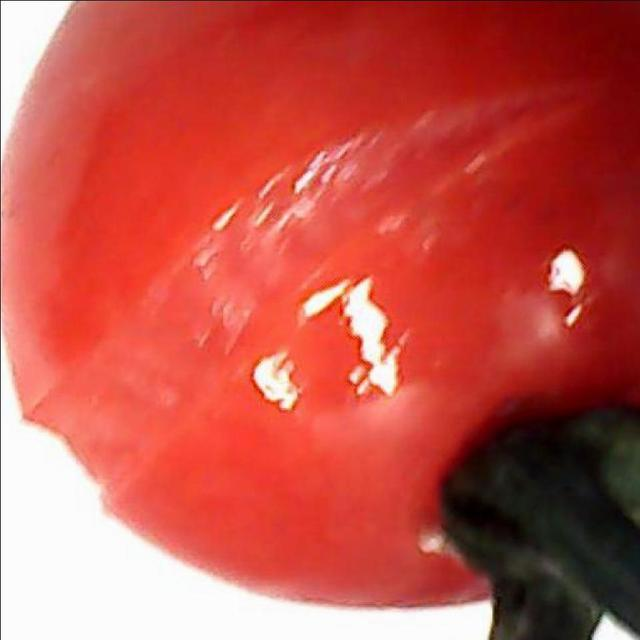Cracking Fruit: (0, 48, 409, 343)
